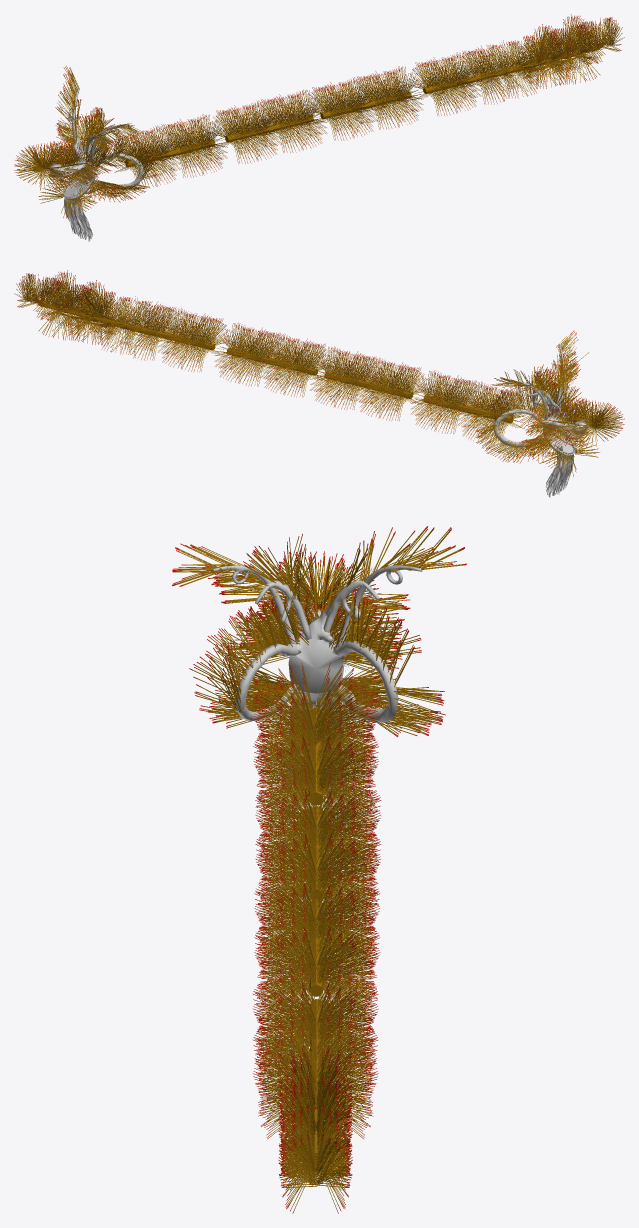
File: 无支撑龙头V2.fbx
3 renders of one model, top to bottom at view 1: azimuth 30°, elevation 25°; view 2: azimuth 150°, elevation 25°; view 3: azimuth 270°, elevation 25°, orthographic. The views are drawn at different scales.
Visible parts, largest first — view 1: DragonHead, DragonTail, tripo_node_1c014da1_c2ef_41f9_9328_d4ce955039c1, DragonBody02, DragonBody09, DragonBody04, DragonBody01, DragonBody03, DragonBody05, DragonBody00, BoxDragonTail, BoxDragonBody01 (+2 smaller); view 2: DragonHead, DragonTail, tripo_node_1c014da1_c2ef_41f9_9328_d4ce955039c1, DragonBody09, DragonBody02, DragonBody04, DragonBody01, DragonBody03, DragonBody05, DragonBody00, BoxDragonTail, BoxDragonBody01 (+2 smaller); view 3: DragonHead, DragonTail, tripo_node_1c014da1_c2ef_41f9_9328_d4ce955039c1, DragonBody05, DragonBody01, DragonBody03, DragonBody00, DragonBody09, DragonBody04, DragonBody02.
Part boxes in pixels (x1=…): DragonHead: x1=14, y1=65, x2=159, y2=218; DragonTail: x1=457, y1=14, x2=624, y2=104; tripo_node_1c014da1_c2ef_41f9_9328_d4ce955039c1: x1=48, y1=87, x2=144, y2=241; DragonBody02: x1=211, y1=100, x2=282, y2=163; DragonBody09: x1=410, y1=52, x2=481, y2=115; DragonBody04: x1=307, y1=77, x2=378, y2=140; DragonBody01: x1=157, y1=114, x2=227, y2=177; DragonBody03: x1=256, y1=89, x2=327, y2=152; DragonBody05: x1=353, y1=66, x2=423, y2=129; DragonBody00: x1=110, y1=125, x2=180, y2=188; BoxDragonTail: x1=423, y1=40, x2=608, y2=93; BoxDragonBody01: x1=225, y1=115, x2=313, y2=142; DragonHead: x1=475, y1=330, x2=624, y2=476; DragonTail: x1=14, y1=270, x2=180, y2=360; tripo_node_1c014da1_c2ef_41f9_9328_d4ce955039c1: x1=494, y1=344, x2=588, y2=497; DragonBody09: x1=157, y1=308, x2=228, y2=371; DragonBody02: x1=355, y1=357, x2=426, y2=420; DragonBody04: x1=259, y1=334, x2=331, y2=397; DragonBody01: x1=410, y1=370, x2=481, y2=433; DragonBody03: x1=310, y1=346, x2=381, y2=409; DragonBody05: x1=214, y1=322, x2=284, y2=386; DragonBody00: x1=457, y1=381, x2=527, y2=444; BoxDragonTail: x1=30, y1=297, x2=215, y2=350; BoxDragonBody01: x1=324, y1=372, x2=413, y2=398; DragonHead: x1=172, y1=526, x2=466, y2=736; DragonTail: x1=253, y1=1000, x2=378, y2=1213; tripo_node_1c014da1_c2ef_41f9_9328_d4ce955039c1: x1=212, y1=563, x2=422, y2=791; DragonBody05: x1=254, y1=899, x2=380, y2=1022; DragonBody01: x1=253, y1=708, x2=378, y2=830; DragonBody03: x1=255, y1=805, x2=381, y2=927; DragonBody00: x1=253, y1=662, x2=378, y2=785; DragonBody09: x1=253, y1=955, x2=378, y2=1077; DragonBody04: x1=254, y1=855, x2=379, y2=977; DragonBody02: x1=255, y1=762, x2=381, y2=883.
Bounding box in the file's own units: 121 × 27.39 × 25.81.
